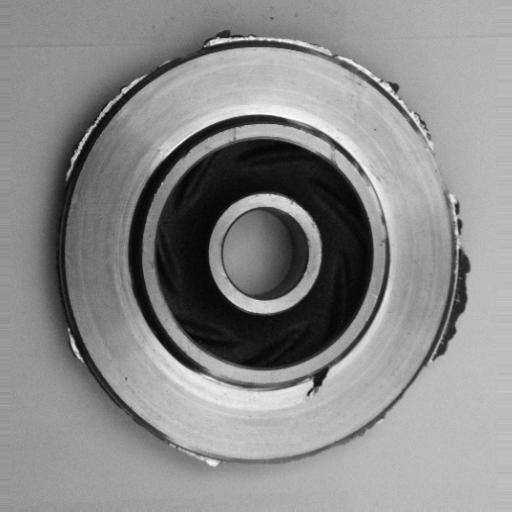casting_with_burr: (54, 25, 472, 473)
crack: (297, 361, 342, 404)
scratch: (367, 169, 398, 248)
